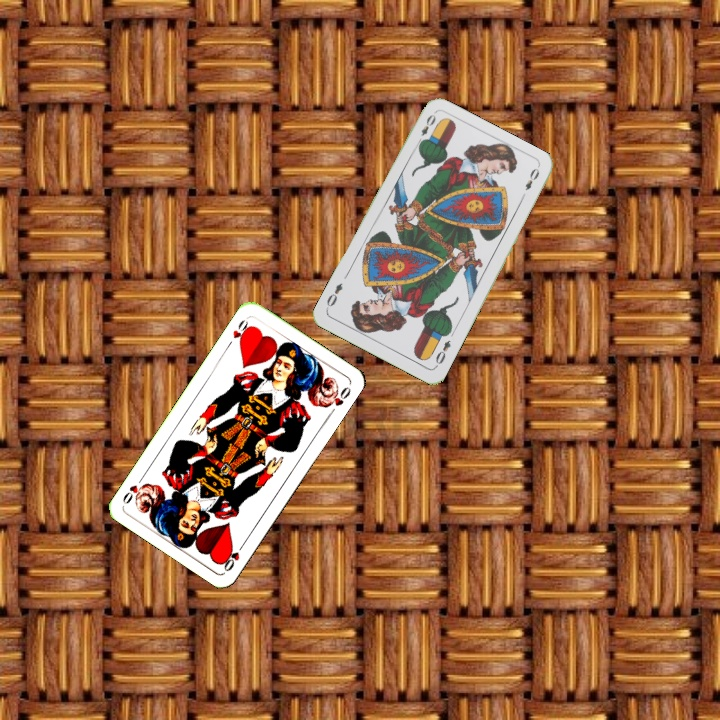EO: (413, 110, 438, 148), (431, 336, 453, 370)
HO: (218, 538, 248, 574), (223, 315, 253, 350)
